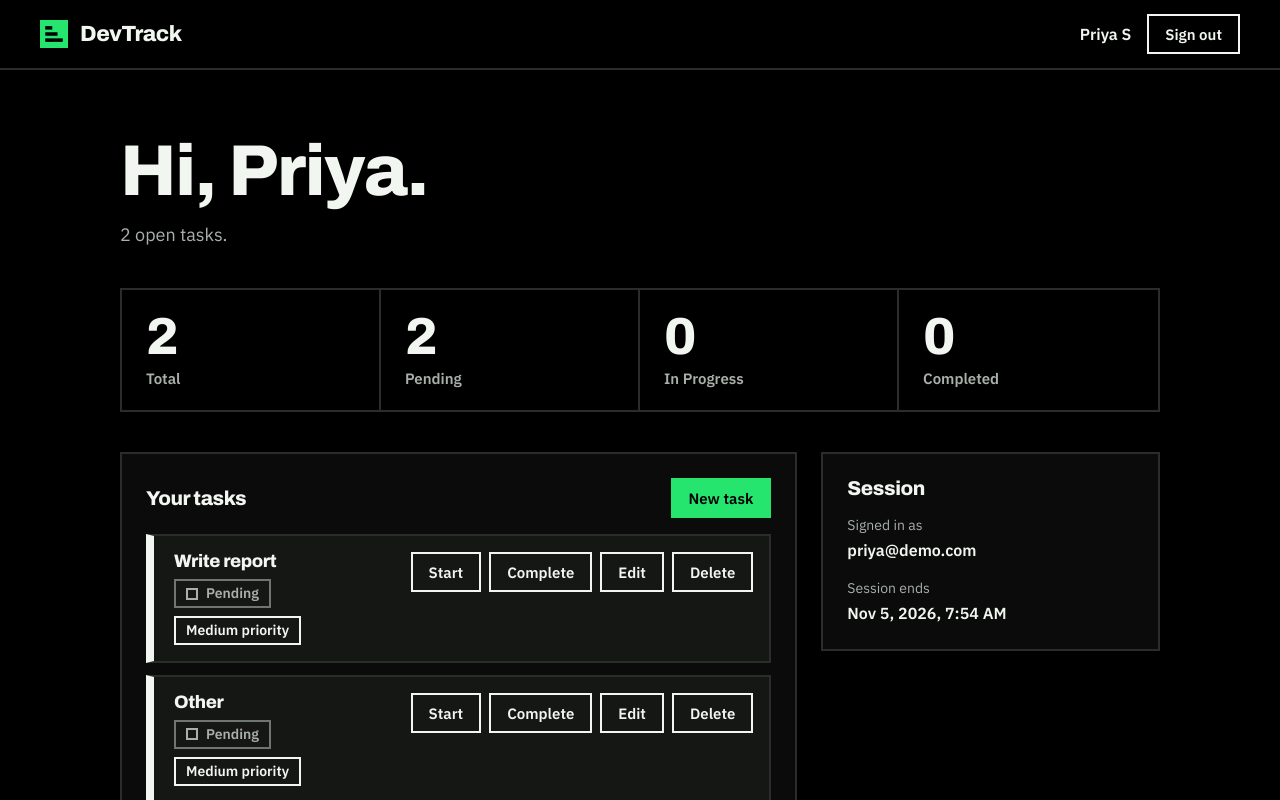
it: Dashboard: quick status changes (FR-08) › removes the card when the task no longer exists (404)
Expected: the heading "Hi, Priya." is shown, [120, 132, 428, 210]
Click the button with aria-label "Mark Write report as Completed" at x=541, y=572, box [489, 552, 592, 592]
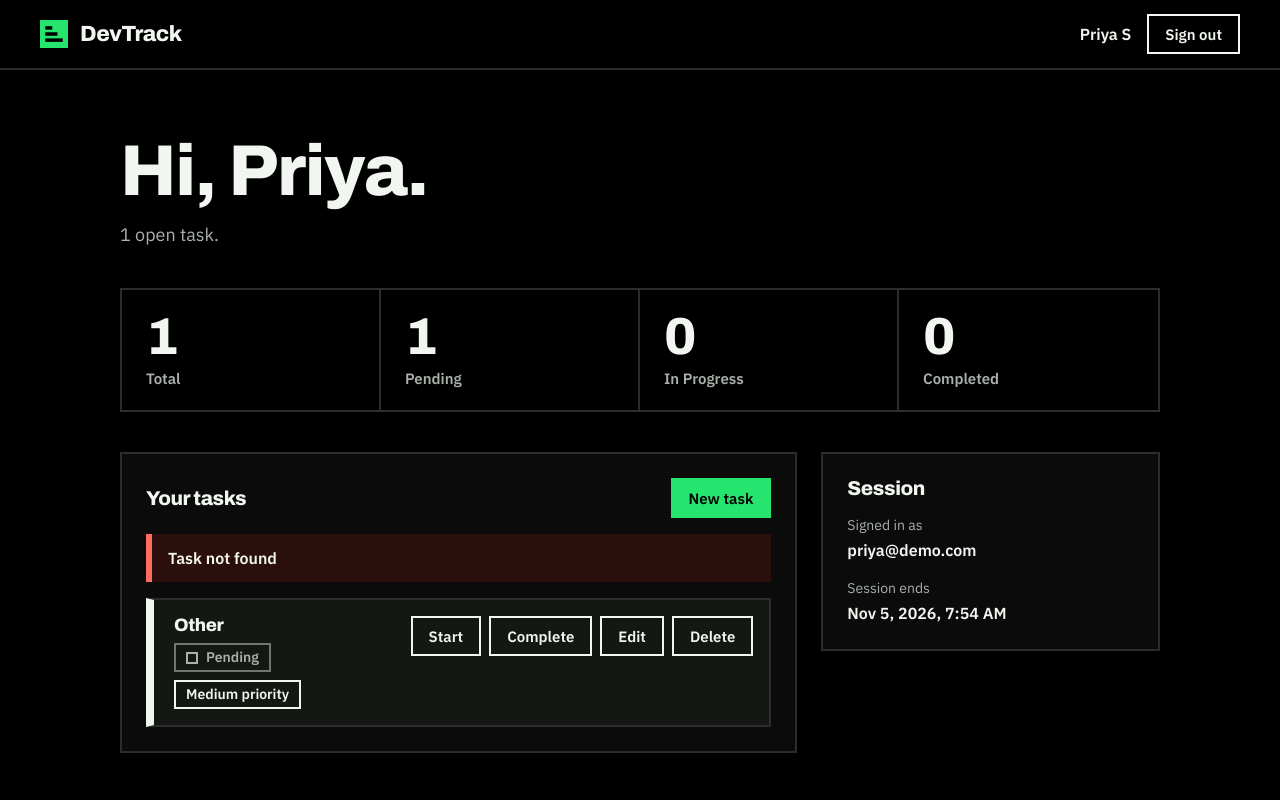
Expected: the message reads "Task not found", [168, 548, 277, 568]
Expected: the number of list items is 1, [146, 598, 771, 727]
